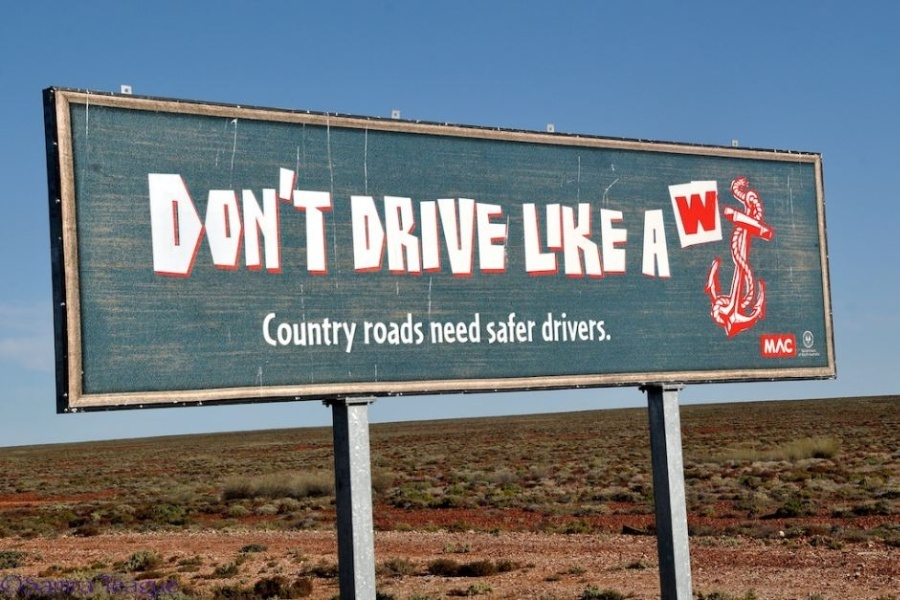text: (145, 158, 160, 277), (161, 158, 176, 277), (177, 158, 192, 277), (193, 158, 208, 277), (209, 158, 224, 277), (225, 158, 240, 277), (241, 158, 256, 277), (257, 158, 272, 277), (273, 158, 288, 277), (289, 158, 304, 277), (305, 158, 320, 277), (321, 158, 335, 277), (353, 193, 368, 276), (369, 193, 384, 276), (385, 193, 400, 276), (401, 193, 416, 276), (417, 193, 432, 276), (433, 193, 448, 276), (449, 193, 464, 276), (465, 193, 480, 276), (481, 193, 496, 276), (529, 201, 544, 277), (545, 201, 560, 277), (561, 201, 576, 277), (577, 201, 592, 277), (593, 201, 608, 277), (609, 201, 624, 277), (657, 208, 672, 279), (643, 208, 656, 279), (497, 193, 507, 276), (689, 190, 704, 236), (273, 311, 288, 354), (289, 311, 304, 354), (305, 311, 320, 354), (321, 311, 336, 354), (337, 311, 352, 354), (674, 190, 688, 236), (705, 190, 718, 236), (521, 201, 528, 277), (465, 312, 481, 345), (260, 311, 272, 354), (369, 312, 384, 346), (385, 312, 400, 346), (401, 312, 416, 346), (433, 312, 448, 345), (449, 312, 464, 345), (497, 312, 512, 344), (513, 312, 528, 344), (545, 311, 560, 342), (561, 311, 576, 342), (577, 311, 592, 342), (593, 311, 608, 342), (486, 312, 496, 344), (625, 201, 629, 277), (529, 312, 538, 344), (417, 312, 425, 346), (769, 338, 784, 355), (349, 193, 352, 276), (362, 312, 368, 346), (801, 345, 816, 358), (353, 311, 357, 354), (785, 338, 794, 355), (609, 311, 613, 342), (541, 311, 544, 342), (817, 345, 823, 358), (430, 312, 432, 345), (765, 338, 768, 355), (798, 345, 800, 358)
